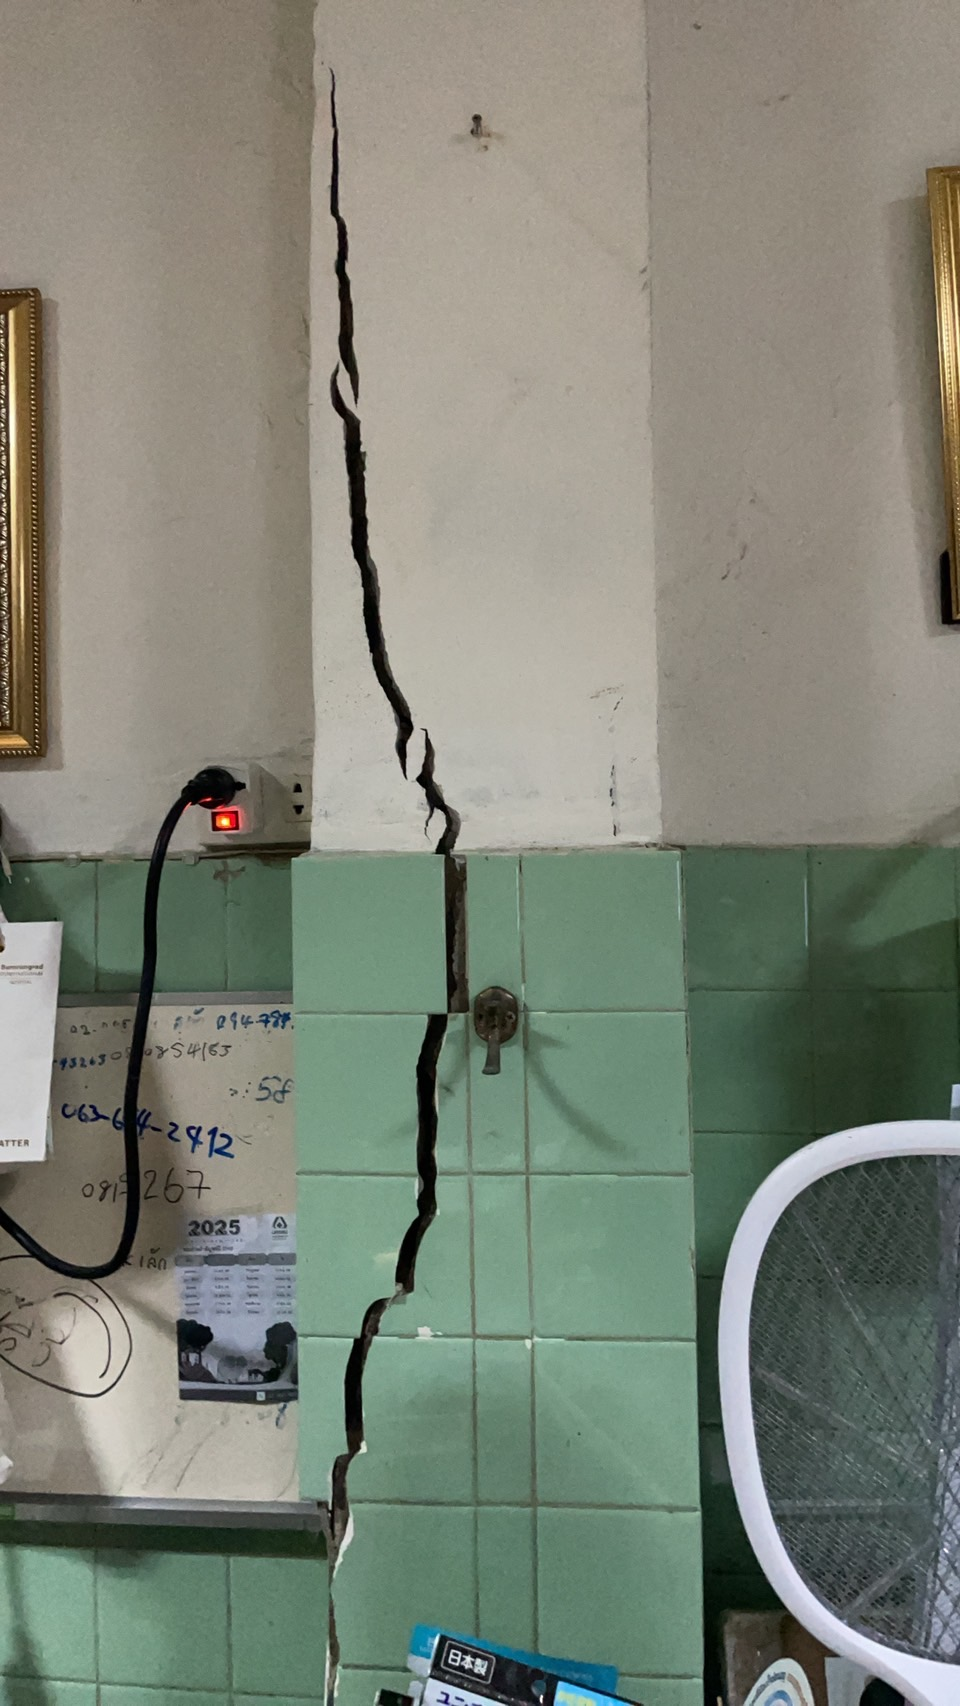High: (175, 54, 486, 1706)
